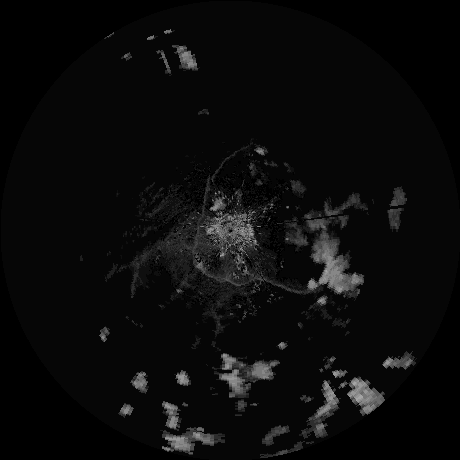frontgust: (191, 148, 239, 266), (200, 266, 317, 296)
